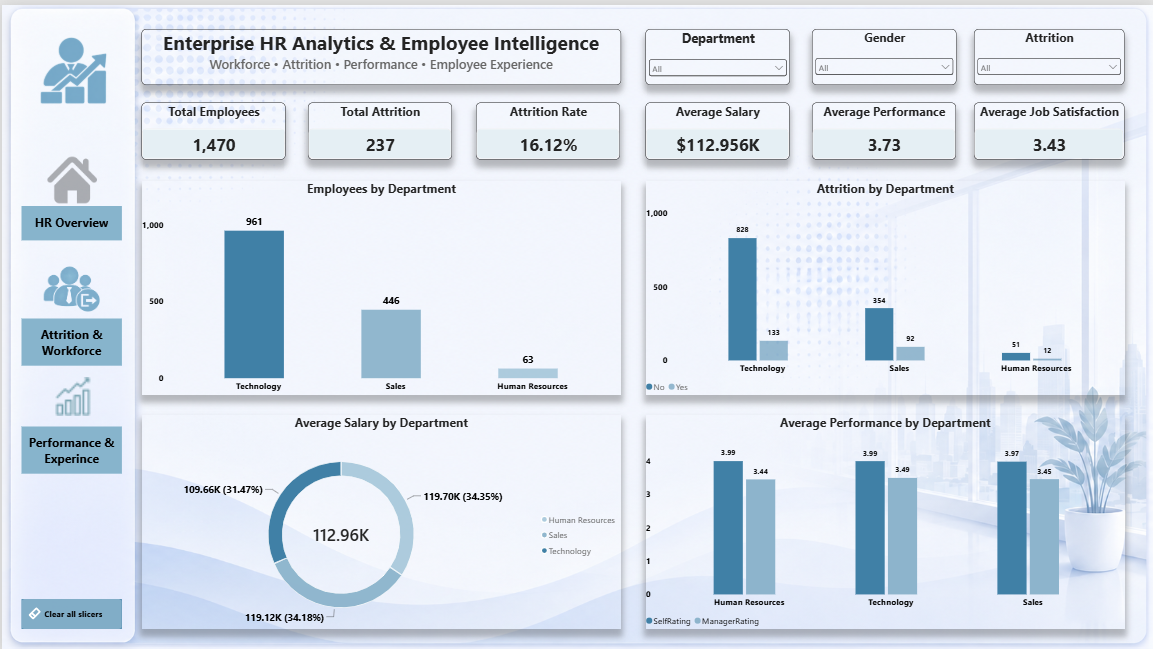

This screenshot's page, from the dashboard's own definition file:
{"tool":"powerbi","page":{"name":"HR Overview","canvas":[1920,1080],"ordinal":0},"visuals":[{"type":"textbox","box":[231.4,40.6,799.3,93.1],"z":0},{"type":"cardVisual","title":"Total Employees","fields":{"Data":["employees_clean.Total Employees"]},"box":[231.4,162.2,240,95],"z":1000},{"type":"cardVisual","title":"Average Job Satisfaction","fields":{"Data":["performance_clean.Average Job Satisfaction"]},"box":[1620,162.2,250.5,95.4],"z":2000},{"type":"cardVisual","title":"Average Performance","fields":{"Data":["performance_clean.Average Performance Score"]},"box":[1350.4,162.2,240,95],"z":3000},{"type":"cardVisual","title":"Average Salary","fields":{"Data":["employees_clean.Average Salary"]},"box":[1071.3,162.2,240,95],"z":4000},{"type":"cardVisual","title":"Attrition Rate","fields":{"Data":["employees_clean.Atrtrititon Rate"]},"box":[789.7,162.2,240,95],"z":5000},{"type":"cardVisual","title":"Total Attrition","fields":{"Data":["employees_clean.Total Attrition"]},"box":[510.6,162.2,240,95],"z":6000},{"type":"clusteredColumnChart","title":"Employees by Department","fields":{"Category":["employees_clean.Department"],"Y":["CountNonNull(employees_clean.EmployeeID)"]},"box":[232.5,292.5,800,357.5],"z":7000},{"type":"clusteredColumnChart","title":"Attrition by Department","fields":{"Category":["employees_clean.Department"],"Series":["employees_clean.Attrition"],"Y":["CountNonNull(employees_clean.EmployeeID)"]},"box":[1071.3,293.5,799.3,357.9],"z":8000},{"type":"donutChart","title":"Average Salary by Department","fields":{"Category":["employees_clean.Department"],"Y":["Avg(employees_clean.Salary)"]},"box":[231.4,682.4,799.3,357.9],"z":9000},{"type":"clusteredColumnChart","title":"Average Performance by Department","fields":{"Category":["employees_clean.Department"],"Y":["Avg(performance_clean.SelfRating)","Avg(performance_clean.ManagerRating)"]},"box":[1071.3,682.4,799.3,357.9],"z":10000},{"type":"slicer","title":"Department","fields":{"Values":["employees_clean.Department"]},"box":[1071.3,40.6,241,93.1],"z":11000},{"type":"slicer","title":"Gender","fields":{"Values":["employees_clean.Gender"]},"box":[1350.4,40.6,241,93.1],"z":12000},{"type":"slicer","title":"Attrition","fields":{"Values":["employees_clean.Attrition"]},"box":[1620,40.6,250.5,93.1],"z":13000},{"type":"actionButton","box":[33.4,990.2,167,50.1],"z":14000},{"type":"actionButton","box":[33.4,334,167,57.3],"z":15000},{"type":"actionButton","box":[33.4,522.5,167,78.7],"z":16000},{"type":"actionButton","box":[33.4,701.5,167,78.7],"z":17000},{"type":"image","box":[47.7,424.7,135,95.4],"z":18000},{"type":"image","box":[64.4,250.5,104,83],"z":19000},{"type":"image","box":[76.3,620.3,81.1,64.4],"z":20000},{"type":"image","box":[33.4,40.6,167,131.2],"z":21000}]}

Visuals, with their boxes in screenshot pixels (x1, y1, x2, y2), scaled from the page's 1920x1080 canvas onto the 1153x649 screenshot:
textbox: bbox=[139, 24, 619, 80]
"Total Employees" cardVisual: bbox=[139, 97, 283, 155]
"Average Job Satisfaction" cardVisual: bbox=[973, 97, 1123, 155]
"Average Performance" cardVisual: bbox=[811, 97, 955, 155]
"Average Salary" cardVisual: bbox=[643, 97, 787, 155]
"Attrition Rate" cardVisual: bbox=[474, 97, 618, 155]
"Total Attrition" cardVisual: bbox=[307, 97, 451, 155]
"Employees by Department" clusteredColumnChart: bbox=[140, 176, 620, 391]
"Attrition by Department" clusteredColumnChart: bbox=[643, 176, 1123, 391]
"Average Salary by Department" donutChart: bbox=[139, 410, 619, 625]
"Average Performance by Department" clusteredColumnChart: bbox=[643, 410, 1123, 625]
"Department" slicer: bbox=[643, 24, 788, 80]
"Gender" slicer: bbox=[811, 24, 956, 80]
"Attrition" slicer: bbox=[973, 24, 1123, 80]
actionButton: bbox=[20, 595, 120, 625]
actionButton: bbox=[20, 201, 120, 235]
actionButton: bbox=[20, 314, 120, 361]
actionButton: bbox=[20, 422, 120, 469]
image: bbox=[29, 255, 110, 313]
image: bbox=[39, 151, 101, 200]
image: bbox=[46, 373, 95, 411]
image: bbox=[20, 24, 120, 103]
